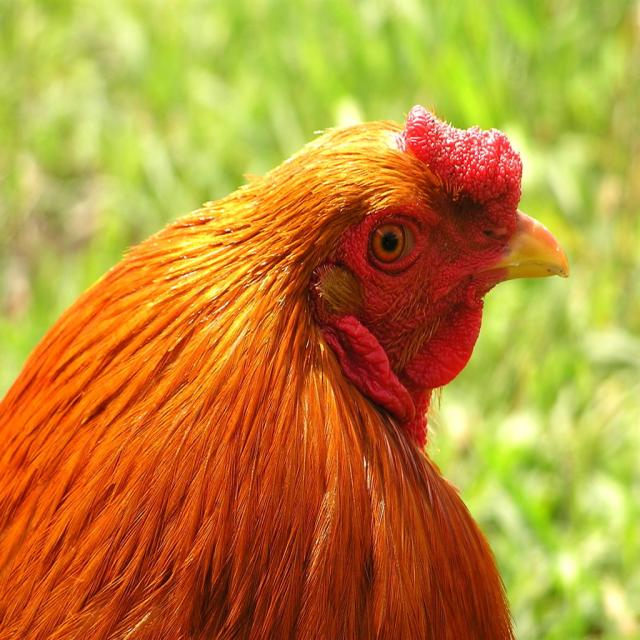Chicken: (0, 108, 572, 639)
